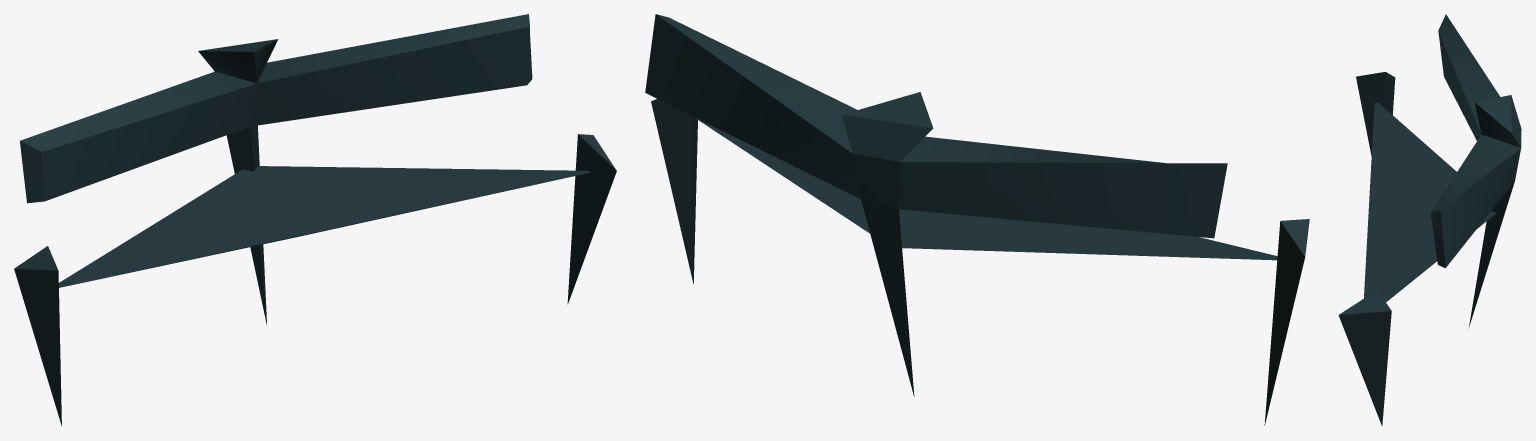
The model's file is c_furniture_bench_metal_aa.fbx.
3 renders of one model, left to right at view 1: azimuth 30°, elevation 25°; view 2: azimuth 150°, elevation 25°; view 3: azimuth 270°, elevation 25°, orthographic. The views are drawn at different scales.
Visible parts, largest first — view 1: c_furniture_bench_metal_aa; view 2: c_furniture_bench_metal_aa; view 3: c_furniture_bench_metal_aa.
Boxes of the visible parts, bbox=[...] form: c_furniture_bench_metal_aa: bbox=[14, 14, 616, 426]; c_furniture_bench_metal_aa: bbox=[645, 14, 1309, 425]; c_furniture_bench_metal_aa: bbox=[1338, 14, 1521, 426].
Bounding box in the file's own units: 2.32 × 1.06 × 0.7855.
